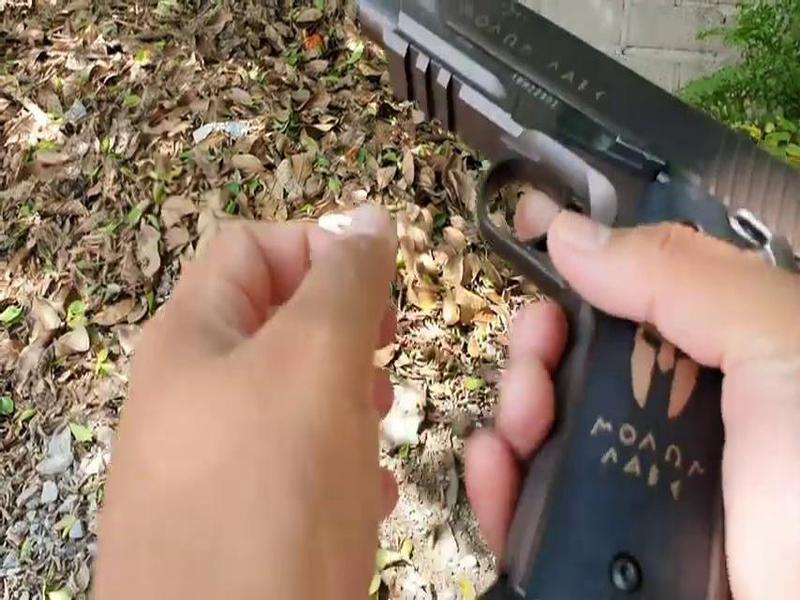Pistola: (330, 3, 799, 600)
